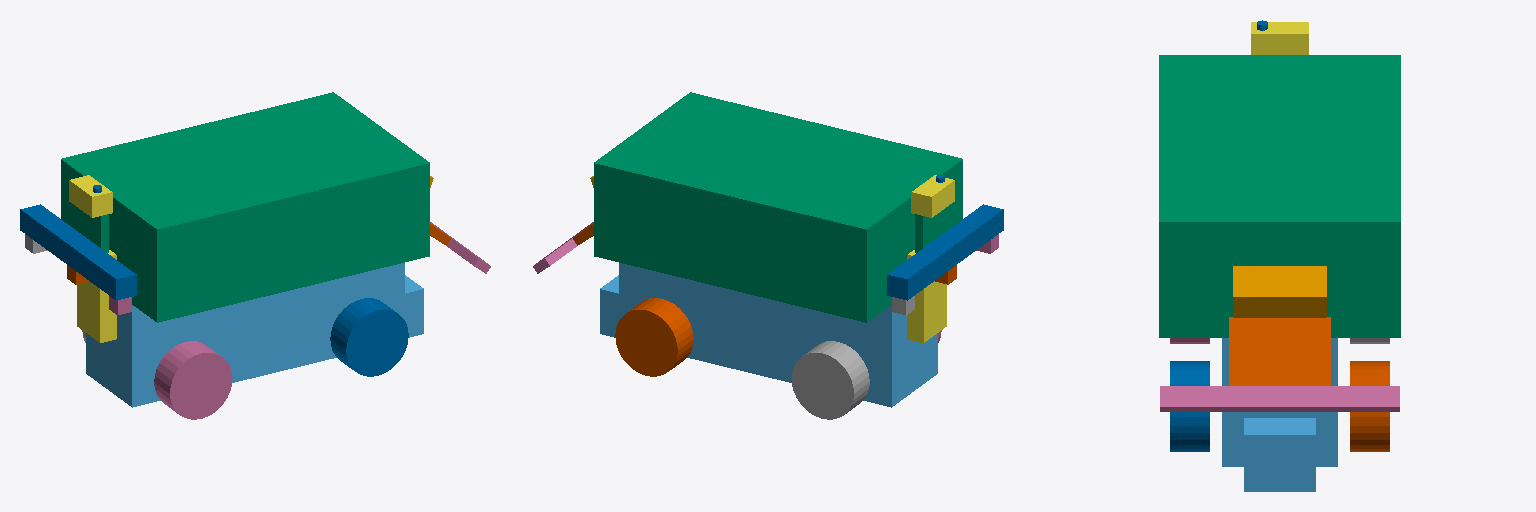
--- What the picture shows (computed from the rendered views, not written in the file) ---
3 views of the same robot in one strip: view 1: azimuth 30°, elevation 25°; view 2: azimuth 150°, elevation 25°; view 3: azimuth 270°, elevation 25° (orthographic).
Model oz440 with 23 links and 22 joints (4 continuous, 1 prismatic, 17 fixed), rooted at footprint, posed all joints at 0.
Links seen in each view (by area): view 1: chassis_top, chassis_bottom, front_right_center, back_right_center, actuator_part1_link, actuator_base_link, IMU_link, lidar_link, IMU_base_link; view 2: chassis_top, chassis_bottom, front_left_center, back_left_center, actuator_part1_link, actuator_base_link, IMU_link, lidar_link, IMU_base_link; view 3: chassis_top, bumper_base_link, bumper_link, lidar_link, camera_stereo_link, chassis_bottom, front_right_center, front_left_center, IMU_link.
Boxes of the visible links, box(x1,y1,x2,y2) form: chassis_top: box(61, 92, 429, 322); chassis_bottom: box(86, 263, 404, 407); front_right_center: box(330, 298, 408, 376); back_right_center: box(154, 341, 232, 419); actuator_part1_link: box(20, 204, 136, 300); actuator_base_link: box(77, 250, 116, 342); IMU_link: box(69, 175, 112, 217); lidar_link: box(405, 275, 423, 337); IMU_base_link: box(85, 213, 108, 252); chassis_top: box(594, 92, 962, 322); chassis_bottom: box(619, 263, 937, 407); front_left_center: box(615, 298, 693, 376); back_left_center: box(791, 341, 869, 419); actuator_part1_link: box(887, 204, 1003, 300); actuator_base_link: box(907, 250, 946, 342); IMU_link: box(911, 175, 954, 217); lidar_link: box(600, 275, 618, 337); IMU_base_link: box(915, 213, 938, 252); chassis_top: box(1159, 55, 1400, 337); bumper_base_link: box(1229, 317, 1330, 385); bumper_link: box(1160, 386, 1399, 411); lidar_link: box(1244, 418, 1315, 491); camera_stereo_link: box(1233, 266, 1326, 317); chassis_bottom: box(1222, 338, 1337, 466); front_right_center: box(1170, 361, 1209, 451); front_left_center: box(1350, 361, 1389, 451); IMU_link: box(1251, 22, 1308, 54).
Bounding box of the posed robot: 0.9264 × 0.4139 × 0.5223 m (x, y, z).
Meshes: 1 distinct files referenced, 0 mesh visuals loaded (none loaded); not drawn: 4 (file found but could not be loaded).

robot.urdf — oz440:
<?xml version="1.0" ?>
<!-- =================================================================================== -->
<!-- |    This document was autogenerated by xacro from oz440.xacro                    | -->
<!-- |    EDITING THIS FILE BY HAND IS NOT RECOMMENDED                                 | -->
<!-- =================================================================================== -->
<!-- Fichier principal de construction du robot -->
<robot name="oz440" xmlns:xacro="http://www.ros.org/wiki/xacro">
  <gazebo reference="chassis">
    <material>Gazebo/White</material>
  </gazebo>
  <gazebo>
    <plugin filename="libgazebo_ros_control.so" name="gazebo_ros_control">
      <robotNamespace>/oz440</robotNamespace>
      <robotSimType>gazebo_ros_control/DefaultRobotHWSim</robotSimType>
    </plugin>
  </gazebo>
  <gazebo>
    <plugin filename="libgazebo_ros_side_drive.so" name="side_drive_controller">
      <robotNamespace>/oz440</robotNamespace>
      <leftFrontJoint>front_left_wheel_hinge</leftFrontJoint>
      <leftRearJoint>back_left_wheel_hinge</leftRearJoint>
      <rightFrontJoint>front_right_wheel_hinge</rightFrontJoint>
      <rightRearJoint>back_right_wheel_hinge</rightRearJoint>
      <wheelSeparation>0.29761</wheelSeparation>
      <wheelDiameter>0.3092</wheelDiameter>
      <torque>500</torque>
      <commandTopic>/oz440/cmd_vel</commandTopic>
      <updateRate>20</updateRate>
    </plugin>
  </gazebo>
  <gazebo>
    <plugin filename="libgazebo_ros_actuator.so" name="actuator_controller">
      <robotNamespace>/oz440</robotNamespace>
      <Joint>actuator_base_link_to_actuator_part1_joint</Joint>
      <commandTopic>/oz440/cmd_act</commandTopic>
      <torque>500</torque>
    </plugin>
  </gazebo>
  <!-- attribution de la couleur pour le porte outils -->
  <gazebo reference="actuator">
    <material>Gazebo/Green</material>
  </gazebo>
  <!-- attribution de la couleur pour l'IMU -->
  <gazebo reference="IMU">
    <material>Gazebo/Green</material>
  </gazebo>
  <!-- attribution de la couleur pour le bumper -->
  <gazebo reference="bumper_link">
    <material>Gazebo/Black</material>
  </gazebo>
  <!-- plugin pour la camera stereo -->
  <gazebo reference="camera_stereo_link">
    <sensor name="stereo_camera" type="multicamera">
      <update_rate>20</update_rate>
      <camera name="left">
        <pose>0 0.05 0 0 0 0</pose>
        <horizontal_fov>1.63555623712896 </horizontal_fov>
        <image>
          <width>752</width>
          <height>480</height>
          <format>BAYER_GBRG8</format>
        </image>
        <clip>
          <near>0.02</near>
          <far>300</far>
        </clip>
        <distortion>
          <k1>-0.25</k1>
          <k2>0.12</k2>
          <k3>0.0</k3>
          <p1>-0.00028</p1>
          <p2>-0.00005</p2>
          <center>0.5 0.5</center>
        </distortion>
      </camera>
      <camera name="right">
        <pose>0 -0.05 0 0 0 0</pose>
        <horizontal_fov>1.63555623712896 </horizontal_fov>
        <image>
          <width>752</width>
          <height>480</height>
          <format>BAYER_GBRG8</format>
        </image>
        <clip>
          <near>0.02</near>
          <far>300</far>
        </clip>
        <distortion>
          <k1>-0.25</k1>
          <k2>0.12</k2>
          <k3>0.0</k3>
          <p1>-0.00028</p1>
          <p2>-0.00005</p2>
          <center>0.5 0.5</center>
        </distortion>
        <!--<distortion>-->
        <!--<k1>0.9</k1>-->
        <!--<k2>0.3291</k2>-->
        <!--<k3>0.23518</k3>-->
        <!--<p1>0.002938</p1>-->
        <!--<p2>-0.00088</p2>-->
        <!--<center>0.5 0.5</center>-->
        <!--</distortion>-->
        <!--<noise>-->
        <!--<type>gaussian</type>-->
        <!--<mean>0.0</mean>-->
        <!--<stddev>0.007</stddev>-->
        <!--</noise>-->
      </camera>
      <plugin filename="libgazebo_ros_multicamera.so" name="stereo_camera_controller">
        <alwaysOn>true</alwaysOn>
        <updateRate>0.0</updateRate>
        <cameraName>oz440/camera</cameraName>
        <imageTopicName>image_raw</imageTopicName>
        <cameraInfoTopicName>camera_info</cameraInfoTopicName>
        <frameName>camera_stereo_link</frameName>
        <!--<rightFrameName>right_camera_optical_frame</rightFrameName>-->
        <!--<hackBaseline>0.1</hackBaseline>-->
        <!--<distortionK1>0.000023</distortionK1>-->
        <!--<distortionK2>0.025979</distortionK2>-->
        <!--<distortionK3>0.039371</distortionK3>-->
        <!--<distortionT1>0.001139</distortionT1>-->
        <!--<distortionT2>-0.002029</distortionT2>-->
      </plugin>
    </sensor>
  </gazebo>
  <!-- plugin pour le lidar -->
  <gazebo reference="lidar_link">
    <sensor name="lidar" type="gpu_ray">
      <pose>0 0 0 0 0 0</pose>
      <visualize>true</visualize>
      <update_rate>20</update_rate>
      <ray>
        <scan>
          <horizontal>
            <samples>271</samples>
            <resolution>1</resolution>
            <min_angle>-2.35619</min_angle>
            <max_angle>2.35619</max_angle>
          </horizontal>
        </scan>
        <range>
          <min>0.06</min>
          <max>3.5</max>
          <resolution>0.01</resolution>
        </range>
        <noise>
          <type>gaussian</type>
          <!-- Noise parameters based on published spec for Hokuyo laser
                         achieving "+-30mm" accuracy at range < 10m.  A mean of 0.0m and
                         stddev of 0.01m will put 99.7% of samples within 0.03m of the true
                         reading. -->
          <mean>0.0</mean>
          <stddev>0.01</stddev>
        </noise>
      </ray>
      <plugin filename="libgazebo_ros_gpu_laser.so" name="gazebo_lidar_controller">
        <alwaysOn>true</alwaysOn>
        <topicName>/oz440/laser/scan</topicName>
        <frameName>lidar_link</frameName>
      </plugin>
    </sensor>
  </gazebo>
  <!-- plugin pour l'IMU  -->
  <gazebo>
    <plugin filename="libhector_gazebo_ros_imu.so" name="imu_controller">
      <robotNamespace>/oz440/</robotNamespace>
      <updateRate>50.0</updateRate>
      <bodyName>IMU_link</bodyName>
      <topicName>imu/data</topicName>
      <accelDrift>0.0005 0.0005 0.0005</accelDrift>
      <accelGaussianNoise>0.005 0.005 0.005</accelGaussianNoise>
      <rateDrift>0.0005 0.0005 0.0005 </rateDrift>
      <rateGaussianNoise>0.005 0.005 0.005 </rateGaussianNoise>
      <headingDrift>0.0005</headingDrift>
      <headingGaussianNoise>0.0005</headingGaussianNoise>
    </plugin>
  </gazebo>
  <!-- plugin pour le GPS -->
  <gazebo>
    <plugin filename="libhector_gazebo_ros_gps.so" name="gps_controller">
      <updateRate>1</updateRate>
      <robotNamespace>/oz440/</robotNamespace>
      <bodyName>IMU_link</bodyName>
      <topicName>navsat/fix</topicName>
      <velocityTopicName>navsat/vel</velocityTopicName>
      <referenceLatitude>43.5195488</referenceLatitude>
      <referenceLongitude>1.5361782 </referenceLongitude>
      <referenceHeading>0</referenceHeading>
      <referenceAltitude>152</referenceAltitude>
      <drift>0.0001 0.0001 0.0001</drift>
    </plugin>
  </gazebo>
  <!-- macro pour l'outils -->
  <!--<xacro:macro name="tool_macro" params="parent">-->
  <!--<link name="tool1">-->
  <!--<inertial>-->
  <!--<origin xyz="-0.25 0 -0.22" rpy="0 0 0" />-->
  <!--<mass value="4"/>-->
  <!--<sphere_inertia m="${4}" r="${0.04}"/>-->
  <!--</inertial>-->
  <!--<gravity>1</gravity>-->
  <!--<collision name="sphere">-->
  <!--<origin xyz="-0.25 0 -0.22" rpy="0 0 0"/>-->
  <!--<geometry>-->
  <!--<sphere radius="0.03"/>-->
  <!--</geometry>-->
  <!--</collision>-->
  <!--<visual>-->
  <!--<origin xyz="-0.25 0 -0.22" rpy="0 0 0"/>-->
  <!--<geometry>-->
  <!--<sphere radius="0.03"/>-->
  <!--</geometry>-->
  <!--</visual>-->
  <!--<visual>-->
  <!--<origin xyz="-0.125 0 -0.075" rpy="0 1.03 0"/>-->
  <!--<geometry>-->
  <!--<cylinder radius="0.007" length="0.30"/>-->
  <!--</geometry>-->
  <!--</visual>-->
  <!--<visual>-->
  <!--<origin xyz="-0.25 0 -0.18" rpy="0 0 0"/>-->
  <!--<geometry>-->
  <!--<cylinder radius="0.007" length="0.065"/>-->
  <!--</geometry>-->
  <!--</visual>-->
  <!--</link>-->
  <!--<link name="tool2">-->
  <!--<inertial>-->
  <!--<origin xyz="-0.25 -0.2 -0.22" rpy="0 0 0" />-->
  <!--<mass value="4"/>-->
  <!--<sphere_inertia m="${4}" r="${0.04}"/>-->
  <!--</inertial>-->
  <!--<gravity>1</gravity>-->
  <!--<collision name="sphere">-->
  <!--<origin xyz="-0.25 0 -0.22" rpy="0 0 0"/>-->
  <!--<geometry>-->
  <!--<sphere radius="0.03"/>-->
  <!--</geometry>-->
  <!--</collision>-->
  <!--<visual>-->
  <!--<origin xyz="-0.25 0 -0.22" rpy="0 0 0"/>-->
  <!--<geometry>-->
  <!--<sphere radius="0.03"/>-->
  <!--</geometry>-->
  <!--</visual>-->
  <!--<visual>-->
  <!--<origin xyz="-0.125 0 -0.075" rpy="0 1.03 0"/>-->
  <!--<geometry>-->
  <!--<cylinder radius="0.007" length="0.29"/>-->
  <!--</geometry>-->
  <!--</visual>-->
  <!--<visual>-->
  <!--<origin xyz="-0.25 0 -0.18" rpy="0 0 0"/>-->
  <!--<geometry>-->
  <!--<cylinder radius="0.007" length="0.065"/>-->
  <!--</geometry>-->
  <!--</visual>-->
  <!--</link>-->
  <!--<link name="tool3">-->
  <!--<inertial>-->
  <!--<origin xyz="-0.25 0 -0.22" rpy="0 0 0" />-->
  <!--<mass value="4"/>-->
  <!--<sphere_inertia m="${4}" r="${0.04}"/>-->
  <!--</inertial>-->
  <!--<gravity>1</gravity>-->
  <!--<collision name="sphere">-->
  <!--<origin xyz="-0.25 0 -0.22" rpy="0 0 0"/>-->
  <!--<geometry>-->
  <!--<sphere radius="0.03"/>-->
  <!--</geometry>-->
  <!--</collision>-->
  <!--<visual>-->
  <!--<origin xyz="-0.25 0 -0.22" rpy="0 0 0"/>-->
  <!--<geometry>-->
  <!--<sphere radius="0.03"/>-->
  <!--</geometry>-->
  <!--</visual>-->
  <!--<visual>-->
  <!--<origin xyz="-0.125 0 -0.075" rpy="0 1.03 0"/>-->
  <!--<geometry>-->
  <!--<cylinder radius="0.007" length="0.29"/>-->
  <!--</geometry>-->
  <!--</visual>-->
  <!--<visual>-->
  <!--<origin xyz="-0.25 0 -0.18" rpy="0 0 0"/>-->
  <!--<geometry>-->
  <!--<cylinder radius="0.007" length="0.065"/>-->
  <!--</geometry>-->
  <!--</visual>-->
  <!--</link>-->
  <!--<gazebo reference="tool1">-->
  <!--<mu1 value="0.99"/>-->
  <!--<mu2 value="0.99"/>-->
  <!--<kp  value="1e+6" />-->
  <!--<kd  value="1.0" />-->
  <!--<fdir1 value="0 0 0"/>-->
  <!--<material> Gazebo/Grey </material>-->
  <!--</gazebo>-->
  <!--<gazebo reference="tool2">-->
  <!--<mu1 value="0.99"/>-->
  <!--<mu2 value="0.99"/>-->
  <!--<kp  value="1e+6" />-->
  <!--<kd  value="1.0" />-->
  <!--<fdir1 value="0 0 0"/>-->
  <!--<material> Gazebo/Grey </material>-->
  <!--</gazebo>-->
  <!--<gazebo reference="tool3">-->
  <!--<mu1 value="0.99"/>-->
  <!--<mu2 value="0.99"/>-->
  <!--<kp  value="1e+6" />-->
  <!--<kd  value="1.0" />-->
  <!--<fdir1 value="0 0 0"/>-->
  <!--<material> Gazebo/Grey </material>-->
  <!--</gazebo>-->
  <!--<joint name="tool1_to_actuator_part_21" type="fixed">-->
  <!--<parent link="actuator_part21_link"/>-->
  <!--<child link="tool1"/>-->
  <!--<origin rpy="0 0 ${-actuator_part2_Height/2}" xyz="0 0 0"/>-->
  <!--</joint>-->
  <!--<joint name="tool2_to_actuator_part_22" type="fixed">-->
  <!--<parent link="actuator_part22_link"/>-->
  <!--<child link="tool2"/>-->
  <!--<origin rpy="0 0 ${-actuator_part2_Height/2}" xyz="0 0 0"/>-->
  <!--</joint>-->
  <!--<joint name="tool3_to_actuator_part_23" type="fixed">-->
  <!--<parent link="actuator_part23_link"/>-->
  <!--<child link="tool3"/>-->
  <!--<origin rpy="0 0 ${-actuator_part2_Height/2}" xyz="0 0 0"/>-->
  <!--</joint>-->
  <!--</xacro:macro>-->
  <!-- link de base, OBLIGATOIRE -->
  <link name="footprint"/>
  <!-- link pour la partie basse du chassis -->
  <link name="chassis_bottom">
    <collision>
      <origin rpy="0 0 0" xyz="0 0 0"/>
      <geometry>
        <box size="0.67454 0.2 0.243"/>
      </geometry>
    </collision>
    <visual>
      <origin rpy="0 0 0" xyz="0 0 0"/>
      <geometry>
        <box size="0.67454 0.2 0.243"/>
      </geometry>
      <material name="white"/>
    </visual>
    <inertial>
      <origin rpy="0 0 0" xyz="0 0 0"/>
      <mass value="30"/>
      <inertia ixx="0.2476225" ixy="0" ixz="0" iyy="1.285133029" iyz="0" izz="1.285133029"/>
    </inertial>
  </link>
  <!--&lt;!&ndash; joint liant footprint a la partie basse du chassis &ndash;&gt;-->
  <joint name="footprint_to_chassis_bottom_joint" type="fixed">
    <parent link="footprint"/>
    <child link="chassis_bottom"/>
    <origin rpy="0 0 0" xyz="0 0 0"/>
  </joint>
  <!-- link pour la partie haute du chassis -->
  <link name="chassis_top">
    <collision>
      <origin rpy="0 0 0" xyz="0 0 0"/>
      <geometry>
        <box size="0.67454 0.41389 0.22"/>
      </geometry>
    </collision>
    <visual>
      <origin rpy="0 0 0" xyz="0 0 0"/>
      <geometry>
        <box size="0.67454 0.41389 0.22"/>
      </geometry>
    </visual>
    <inertial>
      <origin rpy="0 0 0" xyz="0 0 0"/>
      <mass value="70"/>
      <inertia ixx="1.28161210392" ixy="0" ixz="0" iyy="2.93652456767" iyz="0" izz="2.93652456767"/>
    </inertial>
  </link>
  <!-- joint liant les deux partie du chassis -->
  <joint name="chassis_bottom_to_chassis_top" type="fixed">
    <parent link="chassis_bottom"/>
    <child link="chassis_top"/>
    <origin rpy="0 0 0" xyz="0 0 0.2315"/>
  </joint>
  <link name="actuator_base_link">
    <inertial>
      <mass value="1"/>
      <origin rpy="0 0 0" xyz="0 0 0"/>
      <inertia ixx="0.00416666666667" ixy="0" ixz="0" iyy="0.00346666666667" iyz="0" izz="0.00346666666667"/>
    </inertial>
    <collision name="collision_actuator">
      <origin rpy="0 0 0" xyz="0 0 0"/>
      <geometry>
        <box size="0.04 0.1 0.2"/>
      </geometry>
    </collision>
    <visual>
      <origin rpy="0 0 0" xyz="0 0 0"/>
      <geometry>
        <box size="0.04 0.1 0.2"/>
      </geometry>
    </visual>
  </link>
  <gazebo reference="actuator_base_link">
    <mu1 value="0.99"/>
    <mu2 value="0.99"/>
    <kp value="1e+7"/>
    <kd value="1.0"/>
    <fdir1 value="0 0 0"/>
    <material> Gazebo/white </material>
  </gazebo>
  <link name="actuator_part1_link">
    <inertial>
      <mass value="0.5"/>
      <origin rpy="0 0 0" xyz="0 0 0"/>
      <inertia ixx="0.00710833333333" ixy="0" ixz="0" iyy="0.000208333333333" iyz="0" izz="0.000208333333333"/>
    </inertial>
    <collision name="collision_actuator">
      <origin rpy="0 0 0" xyz="0 0 0"/>
      <geometry>
        <box size="0.05 0.41 0.05"/>
      </geometry>
    </collision>
    <visual>
      <origin rpy="0 0 0" xyz="0 0 0"/>
      <geometry>
        <box size="0.05 0.41 0.05"/>
      </geometry>
    </visual>
  </link>
  <gazebo reference="actuator_part1_link">
    <mu1 value="0.99"/>
    <mu2 value="0.99"/>
    <kp value="1e+7"/>
    <kd value="1.0"/>
    <fdir1 value="0 0 0"/>
    <material>Gazebo/Green</material>
  </gazebo>
  <link name="actuator_part21_link">
    <inertial>
      <mass value="0.5"/>
      <origin rpy="0 0 0" xyz="0 0 0"/>
      <inertia ixx="0.000117708333333" ixy="0" ixz="0" iyy="0.000117708333333" iyz="0" izz="0.000117708333333"/>
    </inertial>
    <collision name="collision_actuator">
      <origin rpy="0 0 0" xyz="0 0 0"/>
      <geometry>
        <box size="0.035 0.035 0.04"/>
      </geometry>
    </collision>
    <visual>
      <origin rpy="0 0 0" xyz="0 0 0"/>
      <geometry>
        <box size="0.035 0.035 0.04"/>
      </geometry>
    </visual>
  </link>
  <link name="actuator_part22_link">
    <inertial>
      <mass value="0.5"/>
      <origin rpy="0 0 0" xyz="0 0 0"/>
      <inertia ixx="0.000117708333333" ixy="0" ixz="0" iyy="0.000117708333333" iyz="0" izz="0.000117708333333"/>
    </inertial>
    <collision name="collision_actuator">
      <origin rpy="0 0 0" xyz="0 0 0"/>
      <geometry>
        <box size="0.035 0.035 0.04"/>
      </geometry>
    </collision>
    <visual>
      <origin rpy="0 0 0" xyz="0 0 0"/>
      <geometry>
        <box size="0.035 0.035 0.04"/>
      </geometry>
    </visual>
  </link>
  <link name="actuator_part23_link">
    <inertial>
      <mass value="0.5"/>
      <origin rpy="0 0 0" xyz="0 0 0"/>
      <inertia ixx="0.000117708333333" ixy="0" ixz="0" iyy="0.000117708333333" iyz="0" izz="0.000117708333333"/>
    </inertial>
    <collision name="collision_actuator">
      <origin rpy="0 0 0" xyz="0 0 0"/>
      <geometry>
        <box size="0.035 0.035 0.04"/>
      </geometry>
    </collision>
    <visual>
      <origin rpy="0 0 0" xyz="0 0 0"/>
      <geometry>
        <box size="0.035 0.035 0.04"/>
      </geometry>
    </visual>
  </link>
  <gazebo reference="actuator_part21_link">
    <mu1 value="0.99"/>
    <mu2 value="0.99"/>
    <kp value="1e+7"/>
    <kd value="1.0"/>
    <fdir1 value="0 0 0"/>
    <material>Gazebo/Green</material>
  </gazebo>
  <gazebo reference="actuator_part22_link">
    <mu1 value="0.99"/>
    <mu2 value="0.99"/>
    <kp value="1e+7"/>
    <kd value="1.0"/>
    <fdir1 value="0 0 0"/>
    <material>Gazebo/Green</material>
  </gazebo>
  <gazebo reference="actuator_part23_link">
    <mu1 value="0.99"/>
    <mu2 value="0.99"/>
    <kp value="1e+7"/>
    <kd value="1.0"/>
    <fdir1 value="0 0 0"/>
    <material>Gazebo/Green</material>
  </gazebo>
  <joint name="chassis_bottom_to_actuator_base_joint" type="fixed">
    <parent link="chassis_bottom"/>
    <child link="actuator_base_link"/>
    <origin rpy="0 0 0" xyz="-0.36727 0 0.1215"/>
  </joint>
  <joint name="actuator_base_link_to_actuator_part1_joint" type="prismatic">
    <parent link="actuator_base_link"/>
    <child link="actuator_part1_link"/>
    <origin rpy="0 0 0" xyz="-0.045 0 0.1"/>
    <axis rpy="0 0 0" xyz="0 0 1"/>
    <limit effort="100" lower="-0.15" upper="0" velocity="1"/>
    <dynamics damping="0.7" friction="0.98"/>
  </joint>
  <transmission name="actuator_base_link_to_actuator_part1_trans">
    <type>transmission_interface/SimpleTransmission</type>
    <joint name="actuator_base_link_to_actuator_part1_joint">
      <hardwareInterface>EffortJointInterface</hardwareInterface>
    </joint>
    <actuator name="actuator_base_link_to_actuator_part1_motor">
      <hardwareInterface>EffortJointInterface</hardwareInterface>
      <mechanicalRedu.ction>46</mechanicalRedu.ction>
    </actuator>
  </transmission>
  <joint name="actuator_part1_to_actuator_part21_joint" type="fixed">
    <parent link="actuator_part1_link"/>
    <child link="actuator_part21_link"/>
    <origin rpy="0 0 0" xyz="0 0 -0.045"/>
  </joint>
  <joint name="actuator_part1_to_actuator_part22_joint" type="fixed">
    <parent link="actuator_part1_link"/>
    <child link="actuator_part22_link"/>
    <origin rpy="0 0 0" xyz="0 -0.18 -0.045"/>
  </joint>
  <joint name="actuator_part1_to_actuator_part23_joint" type="fixed">
    <parent link="actuator_part1_link"/>
    <child link="actuator_part23_link"/>
    <origin rpy="0 0 0" xyz="0 0.18 -0.045"/>
  </joint>
  <tool_macro parent="actuator_part2_link"/>
  <link name="front_right_wheel">
    <collision>
      <origin rpy="0 1.57079632679 1.57079632679" xyz="0 0 0"/>
      <!--<origin xyz="${wheel_diameter/2} -${wheel_width/2} -${wheel_diameter/2}" rpy="0 0 ${PI/2}" />-->
      <geometry>
        <cylinder length="0.08761" radius="0.1546"/>
        <!--<mesh filename="model://Wheel/pneu.dae" scale ="0.001 0.001 0.001" />-->
      </geometry>
    </collision>
    <visual>
      <!--<origin xyz="0 0 0" rpy="0 ${PI/2} ${PI/2}" />-->
      <origin rpy="0 0 1.57079632679" xyz="0.1546 -0.043805 -0.1546"/>
      <geometry>
        <!--<cylinder length="${wheel_width}" radius="${wheel_diameter/2}"/>-->
        <mesh filename="model://Wheel/pneu.dae" scale="0.001 0.001 0.001"/>
      </geometry>
    </visual>
    <inertial>
      <origin rpy="0 1.57079632679 1.57079632679" xyz="0 0 0"/>
      <mass value="3"/>
      <inertia ixx="0.019844748025" ixy="0" ixz="0" iyy="0.019844748025" iyz="0" izz="0.03585174"/>
    </inertial>
  </link>
  <gazebo reference="front_right_wheel">
    <gravity>true</gravity>
    <mu1 value="0.99"/>
    <mu2 value="0.99"/>
    <kp value="1e+7"/>
    <kd value="1.0"/>
    <material>Gazebo/DarkGrey</material>
  </gazebo>
  <joint name="front_right_wheel_hinge" type="continuous">
    <parent link="chassis_bottom"/>
    <child link="front_right_wheel"/>
    <origin rpy="0 0 0" xyz="0.2175 -0.153805 -0.0635"/>
    <axis rpy="0 0 0" xyz="0 1 0"/>
    <dynamics damping="0.0" friction="0.0"/>
  </joint>
  <transmission name="front_right_trans">
    <type>transmission_interface/SimpleTransmission</type>
    <joint name="front_right_wheel_hinge">
      <hardwareInterface>EffortJointInterface</hardwareInterface>
    </joint>
    <actuator name="front_right_Motor">
      <hardwareInterface>EffortJointInterface</hardwareInterface>
      <mechanicalRedu.ction>46</mechanicalRedu.ction>
    </actuator>
  </transmission>
  <link name="front_left_wheel">
    <collision>
      <origin rpy="0 1.57079632679 1.57079632679" xyz="0 0 0"/>
      <!--<origin xyz="${wheel_diameter/2} -${wheel_width/2} -${wheel_diameter/2}" rpy="0 0 ${PI/2}" />-->
      <geometry>
        <cylinder length="0.08761" radius="0.1546"/>
        <!--<mesh filename="model://Wheel/pneu.dae" scale ="0.001 0.001 0.001" />-->
      </geometry>
    </collision>
    <visual>
      <!--<origin xyz="0 0 0" rpy="0 ${PI/2} ${PI/2}" />-->
      <origin rpy="0 0 1.57079632679" xyz="0.1546 -0.043805 -0.1546"/>
      <geometry>
        <!--<cylinder length="${wheel_width}" radius="${wheel_diameter/2}"/>-->
        <mesh filename="model://Wheel/pneu.dae" scale="0.001 0.001 0.001"/>
      </geometry>
    </visual>
    <inertial>
      <origin rpy="0 1.57079632679 1.57079632679" xyz="0 0 0"/>
      <mass value="3"/>
      <inertia ixx="0.019844748025" ixy="0" ixz="0" iyy="0.019844748025" iyz="0" izz="0.03585174"/>
    </inertial>
  </link>
  <gazebo reference="front_left_wheel">
    <gravity>true</gravity>
    <mu1 value="0.99"/>
    <mu2 value="0.99"/>
    <kp value="1e+7"/>
    <kd value="1.0"/>
    <material>Gazebo/DarkGrey</material>
  </gazebo>
  <joint name="front_left_wheel_hinge" type="continuous">
    <parent link="chassis_bottom"/>
    <child link="front_left_wheel"/>
    <origin rpy="0 0 0" xyz="0.2175 0.153805 -0.0635"/>
    <axis rpy="0 0 0" xyz="0 1 0"/>
    <dynamics damping="0.0" friction="0.0"/>
  </joint>
  <transmission name="front_left_trans">
    <type>transmission_interface/SimpleTransmission</type>
    <joint name="front_left_wheel_hinge">
      <hardwareInterface>EffortJointInterface</hardwareInterface>
    </joint>
    <actuator name="front_left_Motor">
      <hardwareInterface>EffortJointInterface</hardwareInterface>
      <mechanicalRedu.ction>46</mechanicalRedu.ction>
    </actuator>
  </transmission>
  <link name="back_right_wheel">
    <collision>
      <origin rpy="0 1.57079632679 1.57079632679" xyz="0 0 0"/>
      <!--<origin xyz="${wheel_diameter/2} -${wheel_width/2} -${wheel_diameter/2}" rpy="0 0 ${PI/2}" />-->
      <geometry>
        <cylinder length="0.08761" radius="0.1546"/>
        <!--<mesh filename="model://Wheel/pneu.dae" scale ="0.001 0.001 0.001" />-->
      </geometry>
    </collision>
    <visual>
      <!--<origin xyz="0 0 0" rpy="0 ${PI/2} ${PI/2}" />-->
      <origin rpy="0 0 1.57079632679" xyz="0.1546 -0.043805 -0.1546"/>
      <geometry>
        <!--<cylinder length="${wheel_width}" radius="${wheel_diameter/2}"/>-->
        <mesh filename="model://Wheel/pneu.dae" scale="0.001 0.001 0.001"/>
      </geometry>
    </visual>
    <inertial>
      <origin rpy="0 1.57079632679 1.57079632679" xyz="0 0 0"/>
      <mass value="3"/>
      <inertia ixx="0.019844748025" ixy="0" ixz="0" iyy="0.019844748025" iyz="0" izz="0.03585174"/>
    </inertial>
  </link>
  <gazebo reference="back_right_wheel">
    <gravity>true</gravity>
    <mu1 value="0.99"/>
    <mu2 value="0.99"/>
    <kp value="1e+7"/>
    <kd value="1.0"/>
    <material>Gazebo/DarkGrey</material>
  </gazebo>
  <joint name="back_right_wheel_hinge" type="continuous">
    <parent link="chassis_bottom"/>
    <child link="back_right_wheel"/>
    <origin rpy="0 0 0" xyz="-0.2175 -0.153805 -0.0635"/>
    <axis rpy="0 0 0" xyz="0 1 0"/>
    <dynamics damping="0.0" friction="0.0"/>
  </joint>
  <transmission name="back_right_trans">
    <type>transmission_interface/SimpleTransmission</type>
    <joint name="back_right_wheel_hinge">
      <hardwareInterface>EffortJointInterface</hardwareInterface>
    </joint>
    <actuator name="back_right_Motor">
      <hardwareInterface>EffortJointInterface</hardwareInterface>
      <mechanicalRedu.ction>46</mechanicalRedu.ction>
    </actuator>
  </transmission>
  <link name="back_left_wheel">
    <collision>
      <origin rpy="0 1.57079632679 1.57079632679" xyz="0 0 0"/>
      <!--<origin xyz="${wheel_diameter/2} -${wheel_width/2} -${wheel_diameter/2}" rpy="0 0 ${PI/2}" />-->
      <geometry>
        <cylinder length="0.08761" radius="0.1546"/>
        <!--<mesh filename="model://Wheel/pneu.dae" scale ="0.001 0.001 0.001" />-->
      </geometry>
    </collision>
    <visual>
      <!--<origin xyz="0 0 0" rpy="0 ${PI/2} ${PI/2}" />-->
      <origin rpy="0 0 1.57079632679" xyz="0.1546 -0.043805 -0.1546"/>
      <geometry>
        <!--<cylinder length="${wheel_width}" radius="${wheel_diameter/2}"/>-->
        <mesh filename="model://Wheel/pneu.dae" scale="0.001 0.001 0.001"/>
      </geometry>
    </visual>
    <inertial>
      <origin rpy="0 1.57079632679 1.57079632679" xyz="0 0 0"/>
      <mass value="3"/>
      <inertia ixx="0.019844748025" ixy="0" ixz="0" iyy="0.019844748025" iyz="0" izz="0.03585174"/>
    </inertial>
  </link>
  <gazebo reference="back_left_wheel">
    <gravity>true</gravity>
    <mu1 value="0.99"/>
    <mu2 value="0.99"/>
    <kp value="1e+7"/>
    <kd value="1.0"/>
    <material>Gazebo/DarkGrey</material>
  </gazebo>
  <joint name="back_left_wheel_hinge" type="continuous">
    <parent link="chassis_bottom"/>
    <child link="back_left_wheel"/>
    <origin rpy="0 0 0" xyz="-0.2175 0.153805 -0.0635"/>
    <axis rpy="0 0 0" xyz="0 1 0"/>
    <dynamics damping="0.0" friction="0.0"/>
  </joint>
  <transmission name="back_left_trans">
    <type>transmission_interface/SimpleTransmission</type>
    <joint name="back_left_wheel_hinge">
      <hardwareInterface>EffortJointInterface</hardwareInterface>
    </joint>
    <actuator name="back_left_Motor">
      <hardwareInterface>EffortJointInterface</hardwareInterface>
      <mechanicalRedu.ction>46</mechanicalRedu.ction>
    </actuator>
  </transmission>
  <link name="front_right_center">
    <visual>
      <origin rpy="0 1.57079632679 1.57079632679" xyz="0 0 0"/>
      <geometry>
        <cylinder length="0.06761" radius="0.0773"/>
      </geometry>
    </visual>
    <inertial>
      <origin rpy="0 1.57079632679 1.57079632679" xyz="0 0 0"/>
      <mass value="1.5"/>
      <inertia ixx="0.0032001727625" ixy="0" ixz="0" iyy="0.0032001727625" iyz="0" izz="0.0044814675"/>
    </inertial>
  </link>
  <gazebo reference="front_right_center">
    <gravity>true</gravity>
    <mu1 value="0.99"/>
    <mu2 value="0.99"/>
    <kp value="1e+7"/>
    <kd value="1.0"/>
    <material>Gazebo/Grey</material>
  </gazebo>
  <joint name="front_right_wheel_to_wheel_center" type="fixed">
    <parent link="front_right_wheel"/>
    <child link="front_right_center"/>
    <origin rpy="0 0 0" xyz="0 0 0"/>
  </joint>
  <link name="front_left_center">
    <visual>
      <origin rpy="0 1.57079632679 1.57079632679" xyz="0 0 0"/>
      <geometry>
        <cylinder length="0.06761" radius="0.0773"/>
      </geometry>
    </visual>
    <inertial>
      <origin rpy="0 1.57079632679 1.57079632679" xyz="0 0 0"/>
      <mass value="1.5"/>
      <inertia ixx="0.0032001727625" ixy="0" ixz="0" iyy="0.0032001727625" iyz="0" izz="0.0044814675"/>
    </inertial>
  </link>
  <gazebo reference="front_left_center">
    <gravity>true</gravity>
    <mu1 value="0.99"/>
    <mu2 value="0.99"/>
    <kp value="1e+7"/>
    <kd value="1.0"/>
    <material>Gazebo/Grey</material>
  </gazebo>
  <joint name="front_left_wheel_to_wheel_center" type="fixed">
    <parent link="front_left_wheel"/>
    <child link="front_left_center"/>
    <origin rpy="0 0 0" xyz="0 0 0"/>
  </joint>
  <link name="back_right_center">
    <visual>
      <origin rpy="0 1.57079632679 1.57079632679" xyz="0 0 0"/>
      <geometry>
        <cylinder length="0.06761" radius="0.0773"/>
      </geometry>
    </visual>
    <inertial>
      <origin rpy="0 1.57079632679 1.57079632679" xyz="0 0 0"/>
      <mass value="1.5"/>
      <inertia ixx="0.0032001727625" ixy="0" ixz="0" iyy="0.0032001727625" iyz="0" izz="0.0044814675"/>
    </inertial>
  </link>
  <gazebo reference="back_right_center">
    <gravity>true</gravity>
    <mu1 value="0.99"/>
    <mu2 value="0.99"/>
    <kp value="1e+7"/>
    <kd value="1.0"/>
    <material>Gazebo/Grey</material>
  </gazebo>
  <joint name="back_right_wheel_to_wheel_center" type="fixed">
    <parent link="back_right_wheel"/>
    <child link="back_right_center"/>
    <origin rpy="0 0 0" xyz="0 0 0"/>
  </joint>
  <link name="back_left_center">
    <visual>
      <origin rpy="0 1.57079632679 1.57079632679" xyz="0 0 0"/>
      <geometry>
        <cylinder length="0.06761" radius="0.0773"/>
      </geometry>
    </visual>
    <inertial>
      <origin rpy="0 1.57079632679 1.57079632679" xyz="0 0 0"/>
      <mass value="1.5"/>
      <inertia ixx="0.0032001727625" ixy="0" ixz="0" iyy="0.0032001727625" iyz="0" izz="0.0044814675"/>
    </inertial>
  </link>
  <gazebo reference="back_left_center">
    <gravity>true</gravity>
    <mu1 value="0.99"/>
    <mu2 value="0.99"/>
    <kp value="1e+7"/>
    <kd value="1.0"/>
    <material>Gazebo/Grey</material>
  </gazebo>
  <joint name="back_left_wheel_to_wheel_center" type="fixed">
    <parent link="back_left_wheel"/>
    <child link="back_left_center"/>
    <origin rpy="0 0 0" xyz="0 0 0"/>
  </joint>
  <link name="camera_stereo_link">
    <collision>
      <origin rpy="0 0 0" xyz="0 0 0"/>
      <geometry>
        <box size="0.075 0.16 0.05"/>
      </geometry>
    </collision>
    <visual>
      <origin rpy="0 0 0" xyz="0 0 0"/>
      <geometry>
        <box size="0.075 0.16 0.05"/>
      </geometry>
    </visual>
    <inertial>
      <mass value="0.5"/>
      <origin rpy="0 0 0" xyz="0 0 0"/>
      <inertia ixx="0.000370833333333" ixy="0" ixz="0" iyy="0.000338541666667" iyz="0" izz="0.000338541666667"/>
    </inertial>
  </link>
  <gazebo reference="camera_stereo_link">
    <mu1 value="0.99"/>
    <mu2 value="0.99"/>
    <kp value="1e+7"/>
    <kd value="1.0"/>
    <fdir1 value="0 0 0"/>
    <material>Gazebo/Grey</material>
  </gazebo>
  <joint name="chassis_top_to_camera_stereo" type="fixed">
    <parent link="chassis_bottom"/>
    <child link="camera_stereo_link"/>
    <origin rpy="0 0.349065850399 0" xyz="0.37477 0 0.22564"/>
  </joint>
  <link name="lidar_link">
    <collision>
      <origin rpy="0 0 0" xyz="0 0 0"/>
      <geometry>
        <box size="0.06855 0.124 0.106"/>
      </geometry>
    </collision>
    <visual>
      <origin rpy="0 0 0" xyz="0 0 0"/>
      <geometry>
        <box size="0.06855 0.124 0.106"/>
      </geometry>
    </visual>
    <inertial>
      <mass value="1"/>
      <origin rpy="0 0 0" xyz="0 0 0"/>
      <inertia ixx="0.00110883333333" ixy="0" ixz="0" iyy="0.000663962604167" iyz="0" izz="0.000663962604167"/>
    </inertial>
  </link>
  <joint name="chassis_bottom_to_lidar" type="fixed">
    <parent link="chassis_bottom"/>
    <child link="lidar_link"/>
    <origin rpy="0 0 0" xyz="0.371545 0 -0.08322"/>
  </joint>
  <link name="IMU_base_link">
    <collision>
      <origin rpy="0 0 0" xyz="0 0 0"/>
      <geometry>
        <box size="0.02 0.07 0.1"/>
      </geometry>
    </collision>
    <visual>
      <origin rpy="0 0 0" xyz="0 0 0"/>
      <geometry>
        <box size="0.02 0.07 0.1"/>
      </geometry>
    </visual>
    <inertial>
      <mass value="1"/>
      <origin rpy="0 0 0" xyz="0 0 0"/>
      <inertia ixx="0.000620833333333" ixy="0" ixz="0" iyy="0.000433333333333" iyz="0" izz="0.000433333333333"/>
    </inertial>
  </link>
  <gazebo reference="IMU_base_link">
    <mu1 value="0.99"/>
    <mu2 value="0.99"/>
    <kp value="1e+7"/>
    <kd value="1.0"/>
    <fdir1 value="0 0 0"/>
    <material>Gazebo/Green</material>
  </gazebo>
  <link name="IMU_link">
    <collision>
      <origin rpy="0 0 0" xyz="0 0 0"/>
      <geometry>
        <box size="0.05 0.1 0.05"/>
      </geometry>
    </collision>
    <visual>
      <origin rpy="0 0 0" xyz="0 0 0"/>
      <geometry>
        <box size="0.05 0.1 0.05"/>
      </geometry>
    </visual>
    <inertial>
      <mass value="1"/>
      <origin rpy="0 0 0" xyz="0 0 0"/>
      <inertia ixx="0.000208333333333" ixy="0" ixz="0" iyy="8.33333333333e-05" iyz="0" izz="8.33333333333e-05"/>
    </inertial>
  </link>
  <gazebo reference="IMU_link">
    <mu1 value="0.99"/>
    <mu2 value="0.99"/>
    <kp value="1e+7"/>
    <kd value="1.0"/>
    <fdir1 value="0 0 0"/>
    <material>Gazebo/Grey</material>
  </gazebo>
  <link name="IMU_light">
    <collision>
      <origin rpy="0 0 0" xyz="0 0 0"/>
      <geometry>
        <cylinder length="0.01" radius="0.01"/>
      </geometry>
    </collision>
    <visual>
      <origin rpy="0 0 0" xyz="0 0 0"/>
      <geometry>
        <cylinder length="0.01" radius="0.01"/>
      </geometry>
    </visual>
    <inertial>
      <mass value="0.1"/>
      <origin rpy="0 0 0" xyz="0 0 0"/>
      <inertia ixx="4e-06" ixy="0" ixz="0" iyy="4e-06" iyz="0" izz="4e-06"/>
    </inertial>
  </link>
  <gazebo reference="IMU_light">
    <mu1 value="0.99"/>
    <mu2 value="0.99"/>
    <kp value="1e+7"/>
    <kd value="1.0"/>
    <fdir1 value="0 0 0"/>
    <material>Gazebo/Red</material>
  </gazebo>
  <joint name="actuator_base_to_IMU_base_joint" type="fixed">
    <parent link="actuator_base_link"/>
    <child link="IMU_base_link"/>
    <origin rpy="0 0 0" xyz="0 0 0.15"/>
  </joint>
  <joint name="IMU_base_to_IMU_joint" type="fixed">
    <parent link="IMU_base_link"/>
    <child link="IMU_link"/>
    <origin rpy="0 0 0" xyz="-0.015 0 0.075"/>
  </joint>
  <joint name="IMU_to_IMU_light" type="fixed">
    <parent link="IMU_link"/>
    <child link="IMU_light"/>
    <origin rpy="0 0 0" xyz="0 -0.03 0.03"/>
  </joint>
  <link name="bumper_base_link">
    <collision>
      <origin rpy="0 0 0" xyz="0 0 0"/>
      <geometry>
        <box size="0.13 0.1734 0.02"/>
      </geometry>
    </collision>
    <visual>
      <origin rpy="0 0 0" xyz="0 0 0"/>
      <geometry>
        <box size="0.13 0.1734 0.02"/>
      </geometry>
    </visual>
    <inertial>
      <mass value="1"/>
      <origin rpy="0 0 0" xyz="0 0 0"/>
      <inertia ixx="0.000761689" ixy="0" ixz="0" iyy="0.0004325" iyz="0" izz="0.0004325"/>
    </inertial>
  </link>
  <link name="bumper_link">
    <collision>
      <origin rpy="0 0 0" xyz="0 0 0"/>
      <geometry>
        <box size="0.04 0.41 0.02"/>
      </geometry>
    </collision>
    <visual>
      <origin rpy="0 0 0" xyz="0 0 0"/>
      <geometry>
        <box size="0.04 0.41 0.02"/>
      </geometry>
    </visual>
    <inertial>
      <mass value="1"/>
      <origin rpy="0 0 0" xyz="0 0 0"/>
      <inertia ixx="0.00280833333333" ixy="0" ixz="0" iyy="3.33333333333e-05" iyz="0" izz="3.33333333333e-05"/>
    </inertial>
  </link>
  <joint name="chassis_top_to_bumper_base_joint" type="fixed">
    <parent link="chassis_top"/>
    <child link="bumper_base_link"/>
    <origin rpy="0 0.698131700798 0" xyz="0.40227 0 -0.11"/>
  </joint>
  <joint name="bumper_base_to_bumper_joint" type="fixed">
    <parent link="bumper_base_link"/>
    <child link="bumper_link"/>
    <origin rpy="0 0 0" xyz="0.085 0 0"/>
  </joint>
</robot>
